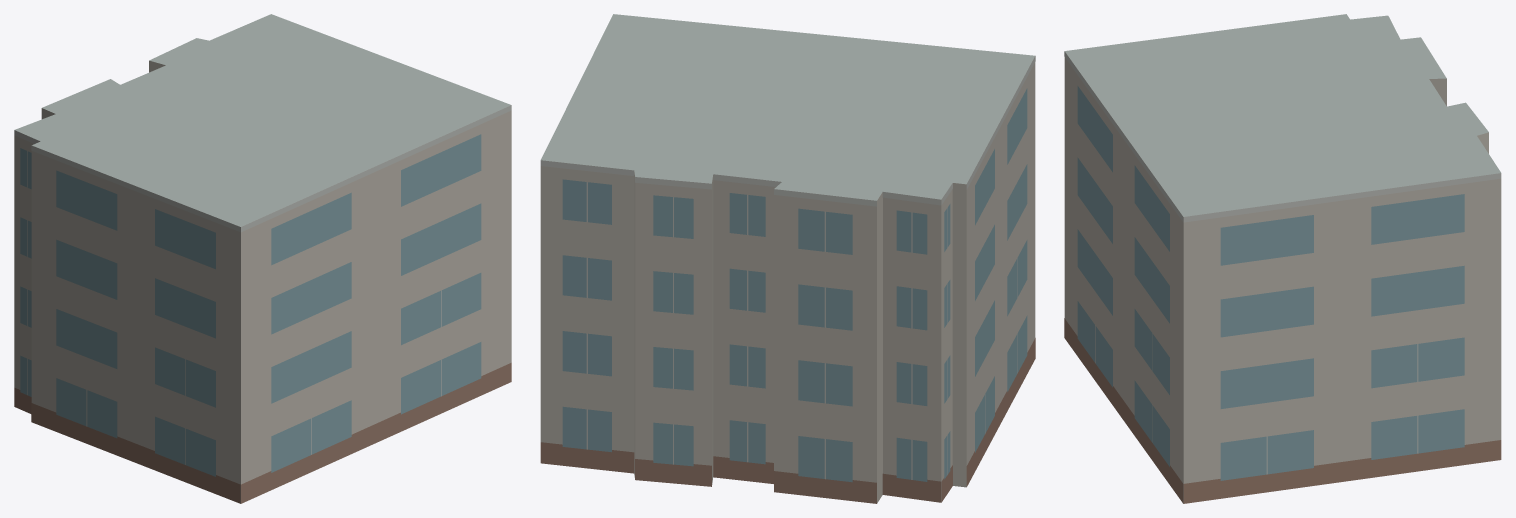
Rendered from survey-upis-32687537.glb.
The picture shows the model from 3 angles, left to right: view 1: azimuth 30°, elevation 25°; view 2: azimuth 150°, elevation 25°; view 3: azimuth 270°, elevation 25°; orthographic projection. The views are drawn at different scales.
Visible parts, largest first — view 1: survey-upis-32687537.tmp; view 2: survey-upis-32687537.tmp; view 3: survey-upis-32687537.tmp.
Part boxes in pixels (box(x1,y1,x2,y2)): survey-upis-32687537.tmp: box(14, 14, 511, 503); survey-upis-32687537.tmp: box(540, 14, 1035, 503); survey-upis-32687537.tmp: box(1064, 14, 1501, 503).
Size of the model in its own units: 19.28 by 12.7 by 17.54.
